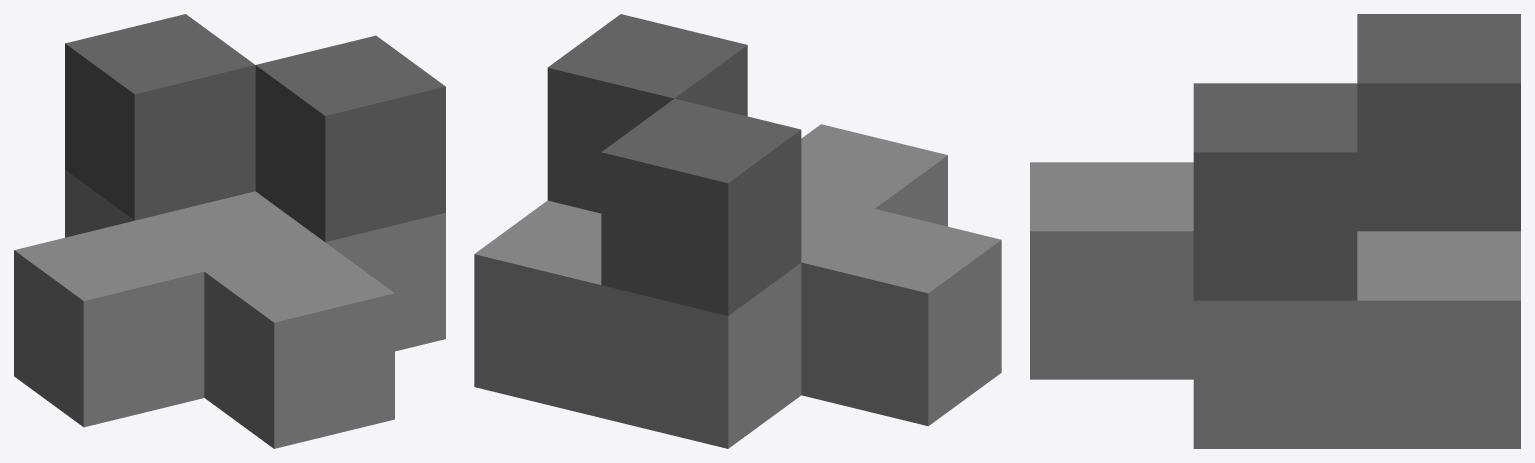
File: Medieval Assets-320-Resource - Stone - Variant2.obj
3 views of the same model, side by side, from view 1: azimuth 30°, elevation 25°; view 2: azimuth 150°, elevation 25°; view 3: azimuth 270°, elevation 25° (orthographic). The views are drawn at different scales.
Visible parts, largest first — view 1: Resource - Stone - Variant2; view 2: Resource - Stone - Variant2; view 3: Resource - Stone - Variant2.
Part boxes in pixels (x1,y1,x2,y2): Resource - Stone - Variant2: (14, 14, 445, 448); Resource - Stone - Variant2: (474, 14, 1001, 448); Resource - Stone - Variant2: (1030, 14, 1520, 448).
Size of the model in its own units: 0.3 by 0.2 by 0.3.
Materials: 1 (1 with a texture image).
